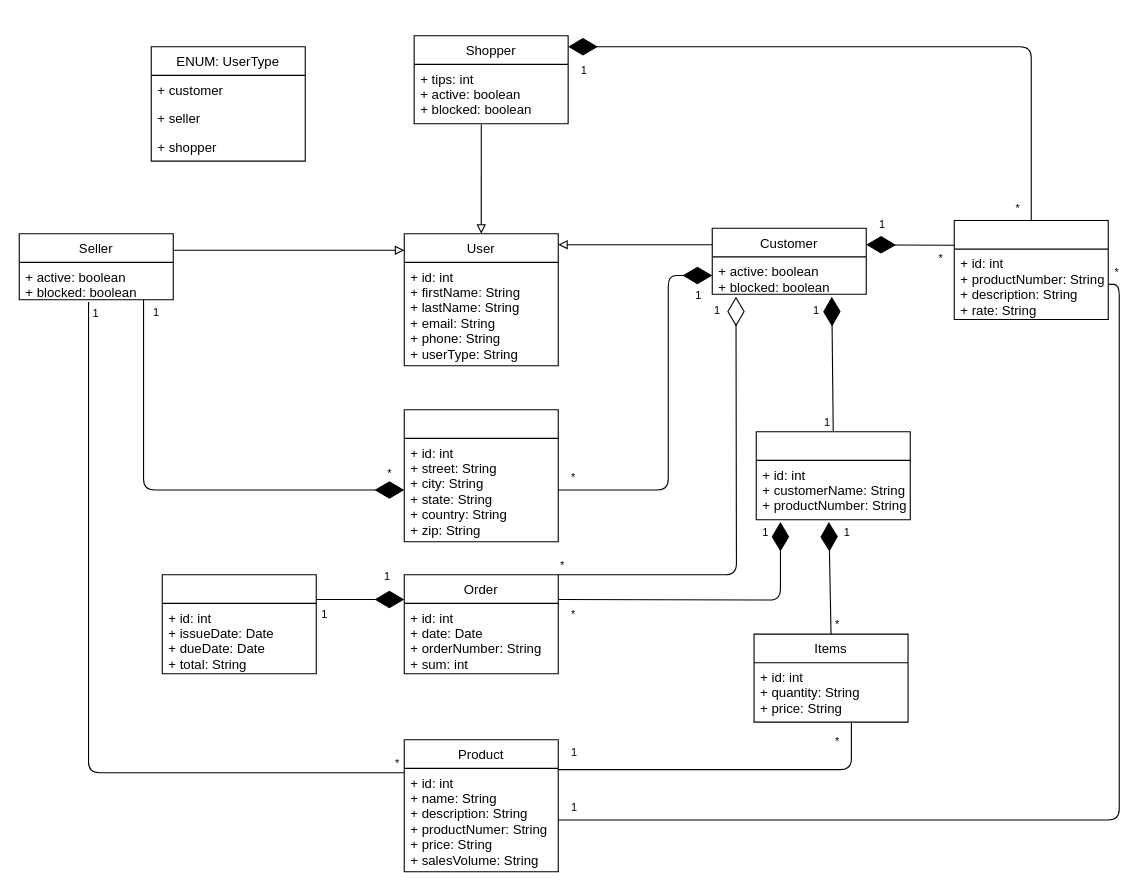
This 1140x894 diagram has some shape labels left out. The shapes that lost their labels are listed below. From the top down, each one's box as (x1, y1, x2, y2) in pixels, then its label:
(953, 219, 1108, 320): Reviews
(403, 409, 558, 542): Address
(755, 431, 910, 520): ShoppingCart
(161, 574, 316, 674): Billing
